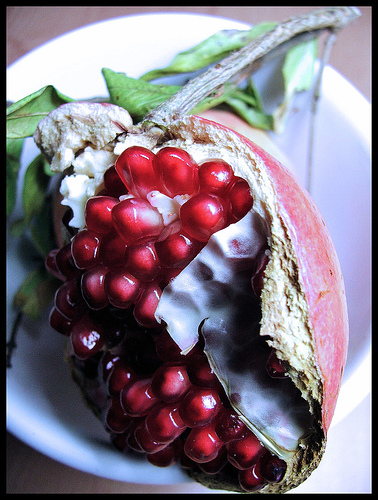pomogranate: (30, 100, 349, 492)
